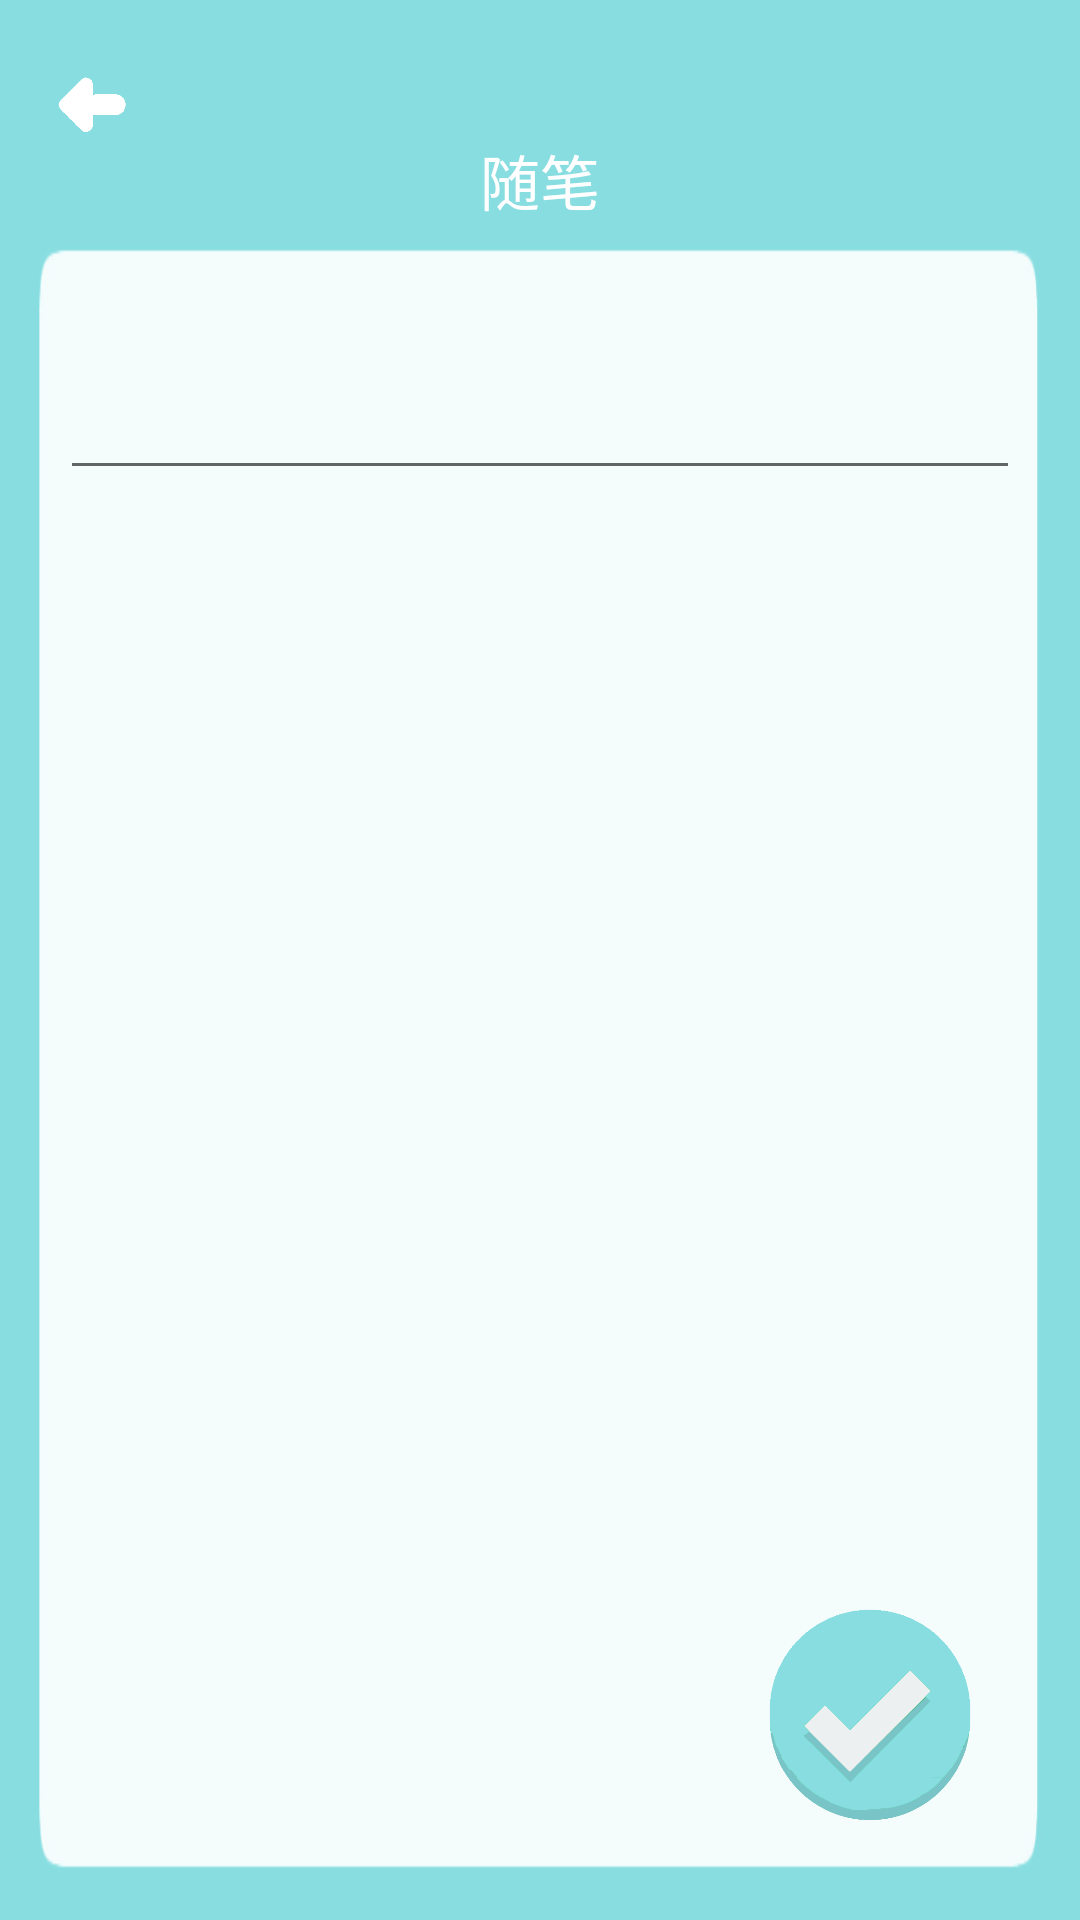

Locate icon controls on the screen. Image size 1080*1920, boxes as (x1, y1, x2, y2).
backbutton: (58, 77, 126, 132)
